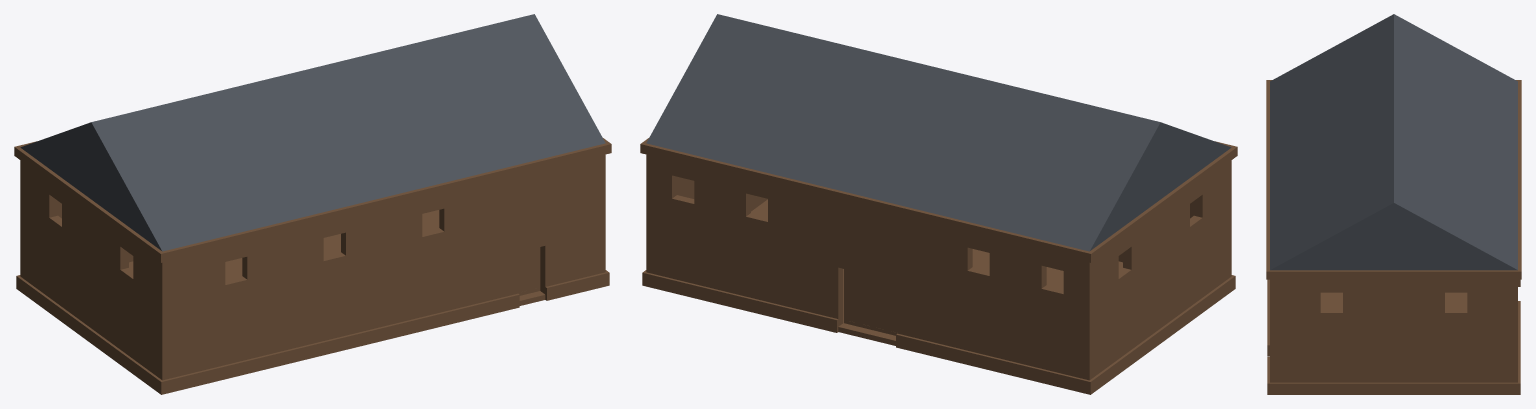
3 renders of one model, left to right at view 1: azimuth 30°, elevation 25°; view 2: azimuth 150°, elevation 25°; view 3: azimuth 270°, elevation 25°, orthographic. The views are drawn at different scales.
Visible parts, largest first — view 1: roof_slate, body_timber, trim_timber, door_timber; view 2: roof_slate, body_timber, trim_timber, door_timber; view 3: roof_slate, body_timber, trim_timber.
Boxes of the visible parts, x1,y1,x2,y2 form: roof_slate: [20, 14, 605, 251]; body_timber: [20, 154, 605, 380]; trim_timber: [14, 138, 611, 394]; door_timber: [518, 247, 540, 295]; roof_slate: [646, 14, 1231, 251]; body_timber: [646, 154, 1231, 380]; trim_timber: [640, 138, 1237, 394]; door_timber: [844, 269, 897, 335]; roof_slate: [1270, 14, 1517, 270]; body_timber: [1270, 279, 1517, 382]; trim_timber: [1266, 80, 1521, 394].
Size of what is drawn, in the model's own units: 18.3 by 8.5 by 10.3.
